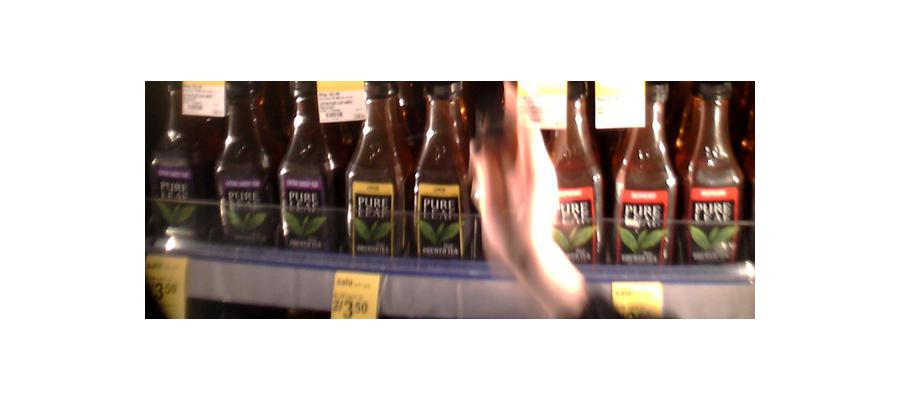bottle: (472, 89, 567, 298), (344, 77, 408, 258), (409, 84, 470, 264), (682, 79, 740, 267), (614, 97, 674, 267), (277, 83, 335, 249), (218, 83, 275, 248), (555, 86, 606, 265), (151, 84, 207, 247)
